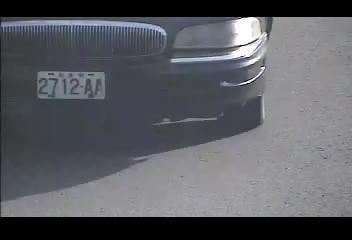plate: (34, 69, 107, 100)
